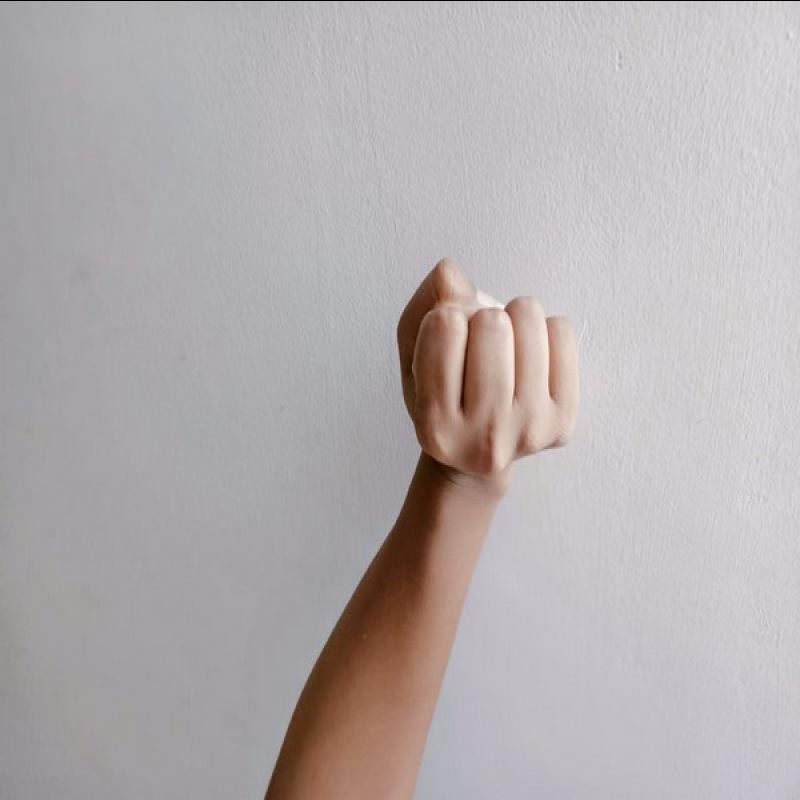Mushti: (349, 258, 604, 489)
